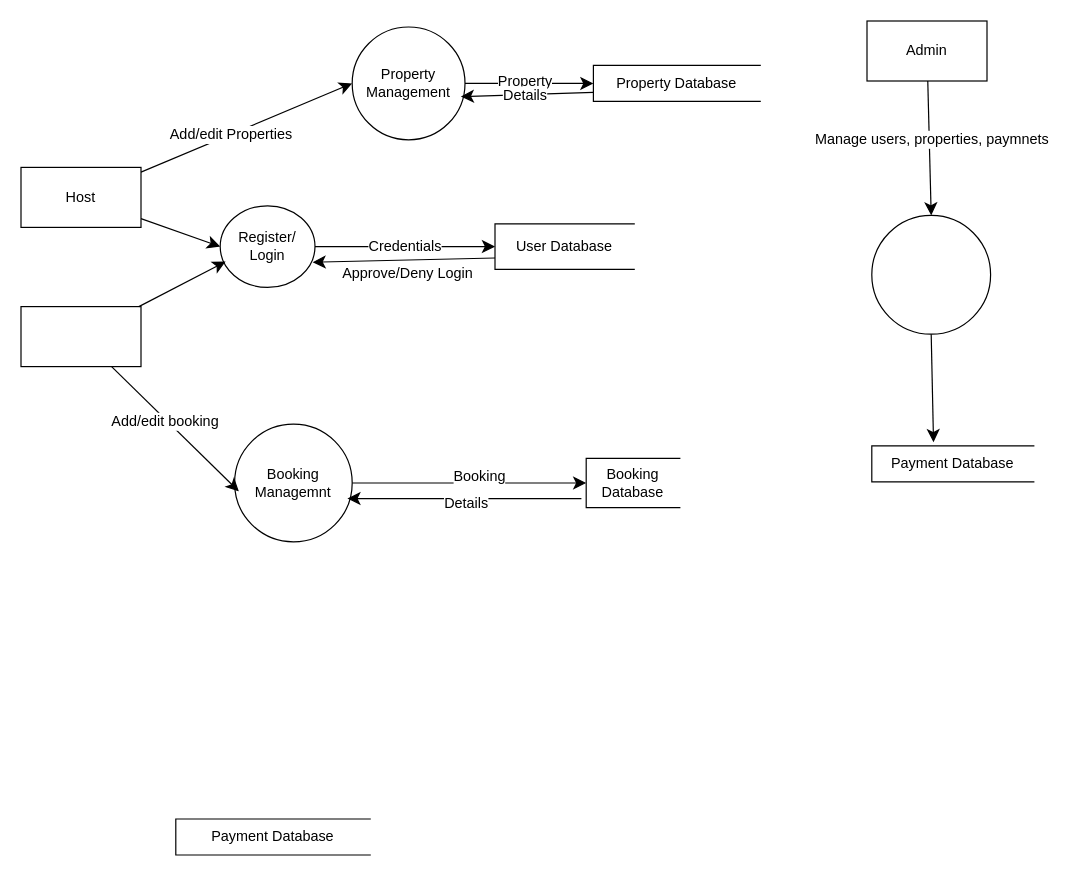
The diagram is 1070 pixels wide and 876 high, and some of its shapes have lost their labels. The shapes that lost their labels are listed below. From the top down, each one's box as (x1, y1, x2, y2) in pixels, then its label:
(871, 214, 991, 334): Admin Management
(20, 305, 141, 367): Guest
